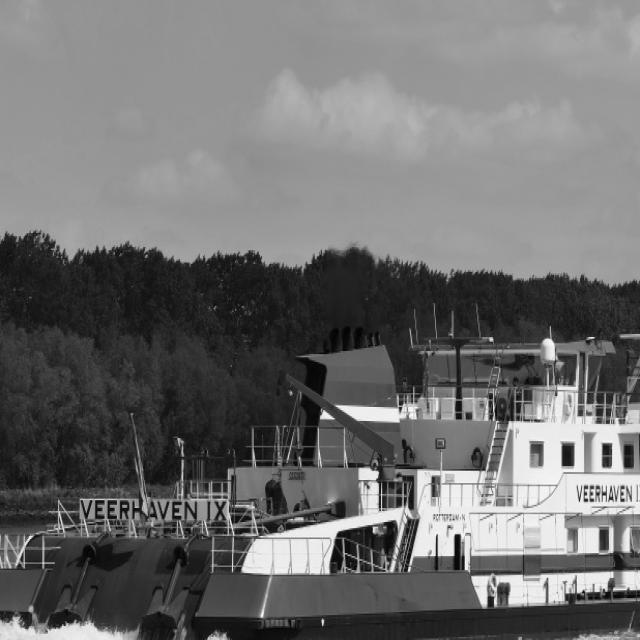tugboat: (1, 324, 640, 640)
